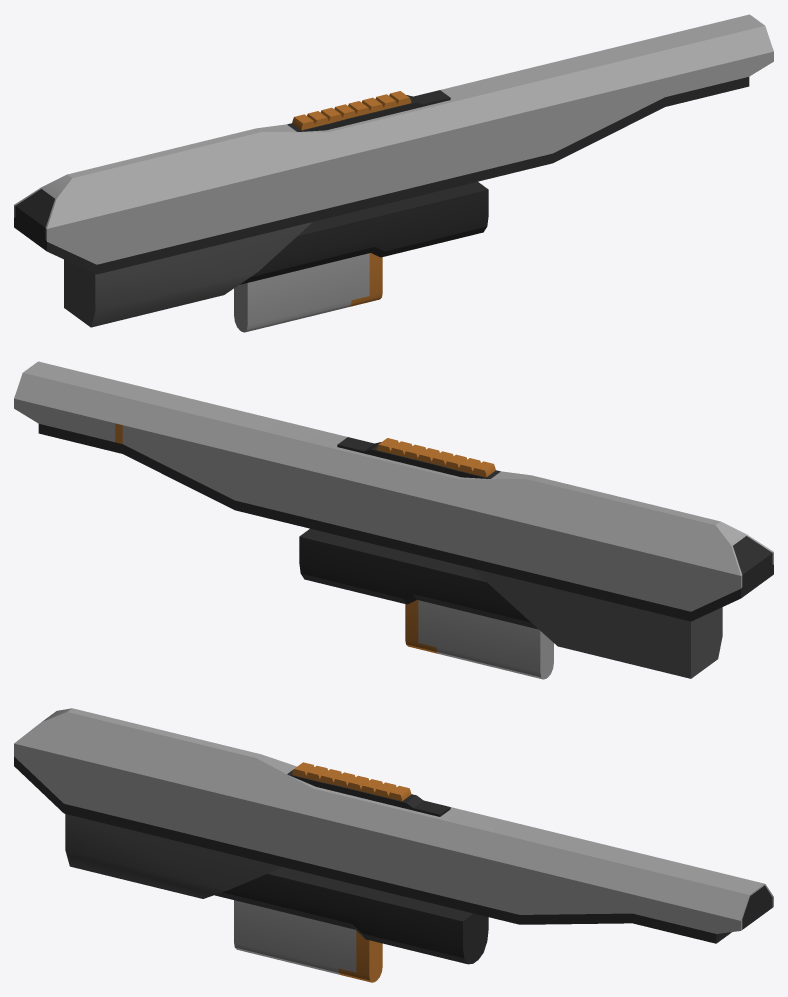
File: Body_Front_Sniper_3.glb
3 views of the same model, one above another, from view 1: azimuth 30°, elevation 25°; view 2: azimuth 150°, elevation 25°; view 3: azimuth 330°, elevation 25° (orthographic).
Visible parts, largest first — view 1: Body_Front_Sniper_3; view 2: Body_Front_Sniper_3; view 3: Body_Front_Sniper_3.
Boxes of the visible parts, <box> form: Body_Front_Sniper_3: <box>14,14,773,332</box>; Body_Front_Sniper_3: <box>14,361,773,679</box>; Body_Front_Sniper_3: <box>14,708,773,982</box>.
Size of the model in its own units: 1.2 by 0.3116 by 0.0945.
